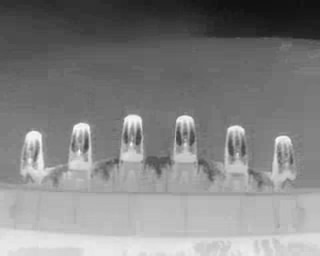claw: (222, 125, 249, 175), (173, 114, 198, 165), (121, 113, 145, 163), (69, 121, 93, 170), (273, 135, 297, 183), (19, 131, 43, 177)
